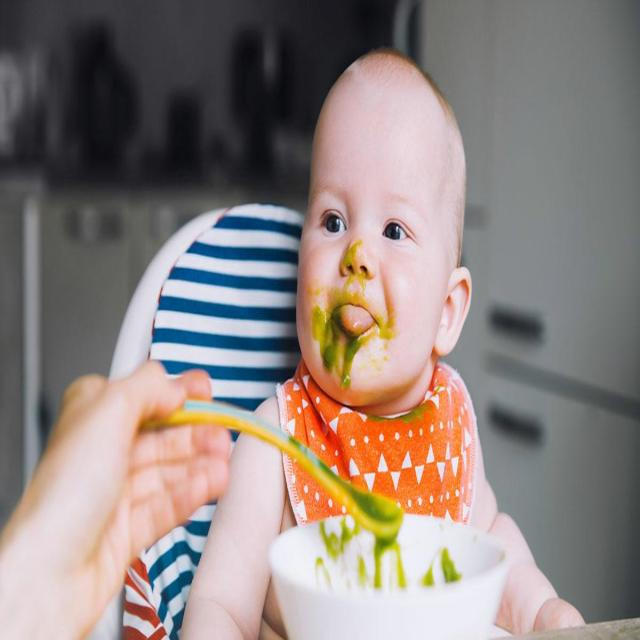child: (0, 39, 583, 640)
